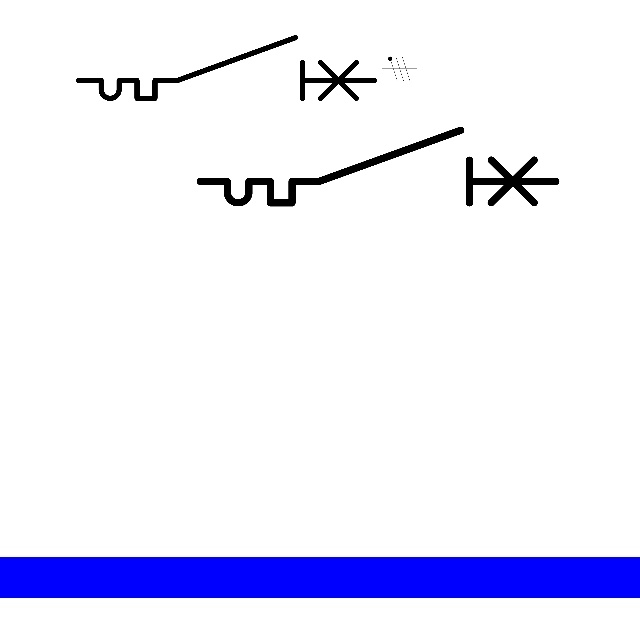interruptor_termomagnetico: (191, 121, 564, 212), (71, 30, 382, 106)
